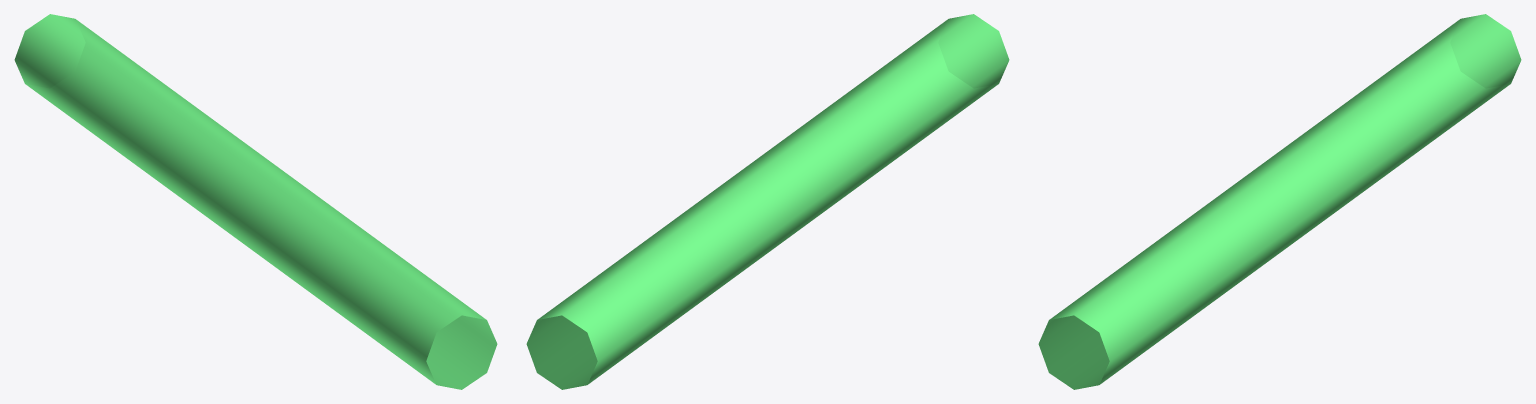
The model's file is saucer_shot.obj.
3 renders of one model, left to right at view 1: azimuth 30°, elevation 25°; view 2: azimuth 150°, elevation 25°; view 3: azimuth 330°, elevation 25°, orthographic.
Parts seen in each view (by area): view 1: saucer_shot; view 2: saucer_shot; view 3: saucer_shot.
Part boxes in pixels (left/top/right/bottom): saucer_shot: left=14, top=14, right=497, bottom=389; saucer_shot: left=526, top=14, right=1009, bottom=389; saucer_shot: left=1038, top=14, right=1521, bottom=389.
Size of the model in its own units: 0.1 by 0.1 by 1.
